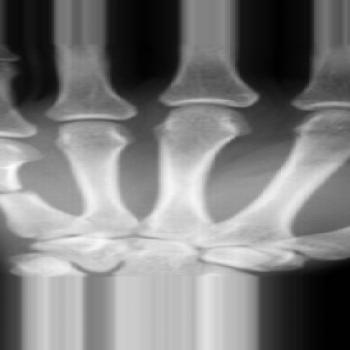Fracture: (0, 180, 40, 204)
